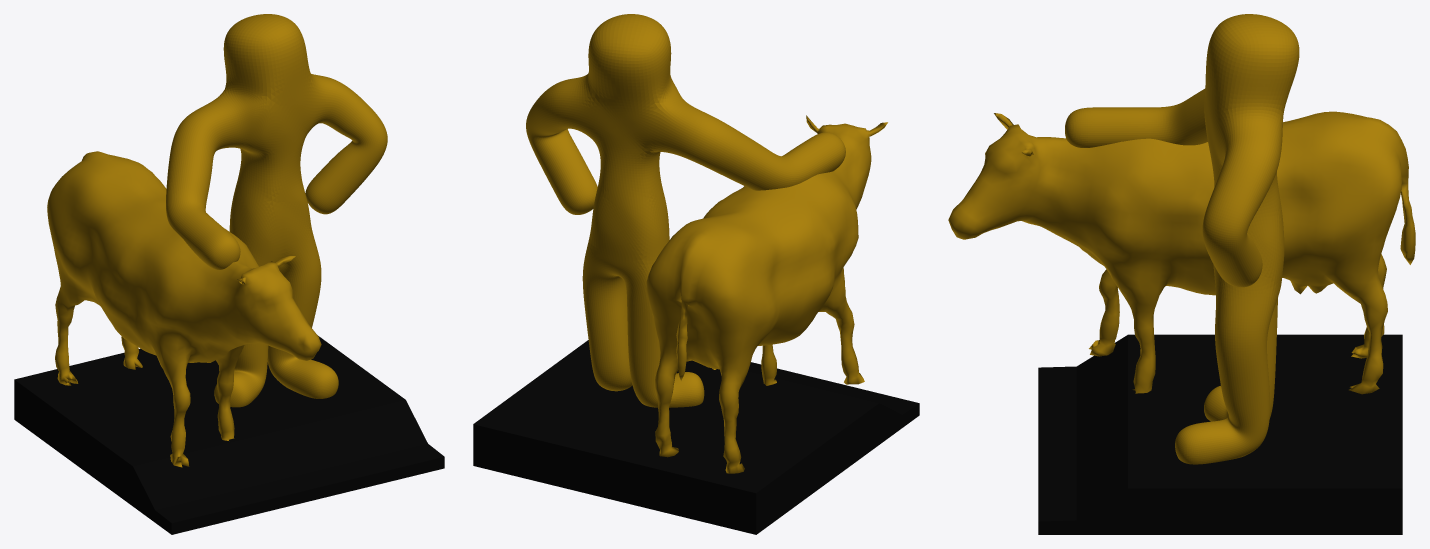
3 renders of one model, left to right at view 1: azimuth 30°, elevation 25°; view 2: azimuth 150°, elevation 25°; view 3: azimuth 270°, elevation 25°, orthographic. The views are drawn at different scales.
Visible parts, largest first — view 1: base.006, Plane.006, cow1; view 2: base.006, Plane.006, cow1; view 3: base.006, cow1, Plane.006.
Boxes of the visible parts, x1,y1,x2,y2 form: base.006: (14, 336, 444, 534); Plane.006: (166, 14, 387, 407); cow1: (47, 151, 321, 467); base.006: (473, 340, 919, 534); Plane.006: (526, 14, 845, 407); cow1: (646, 115, 887, 473); base.006: (1038, 334, 1402, 534); cow1: (948, 111, 1415, 394); Plane.006: (1065, 14, 1299, 464).
Size of the model in its own units: 86.32 by 113 by 103.
